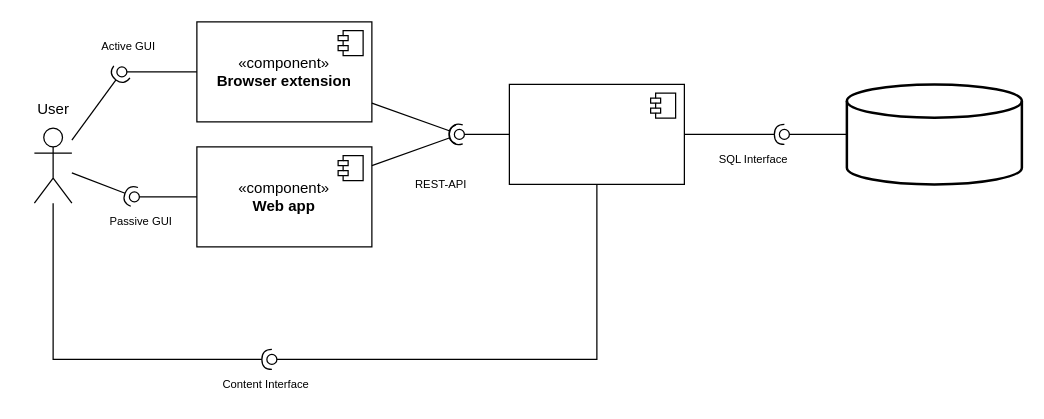
Some shapes in this 1044 by 419 pixel diagram are drawn without their labels. Here are the shapes that lost their labels. From the top down, the centre of each, then its label:
At pixel 596 133: "«component» Backend server".
At pixel 933 133: "Database".
